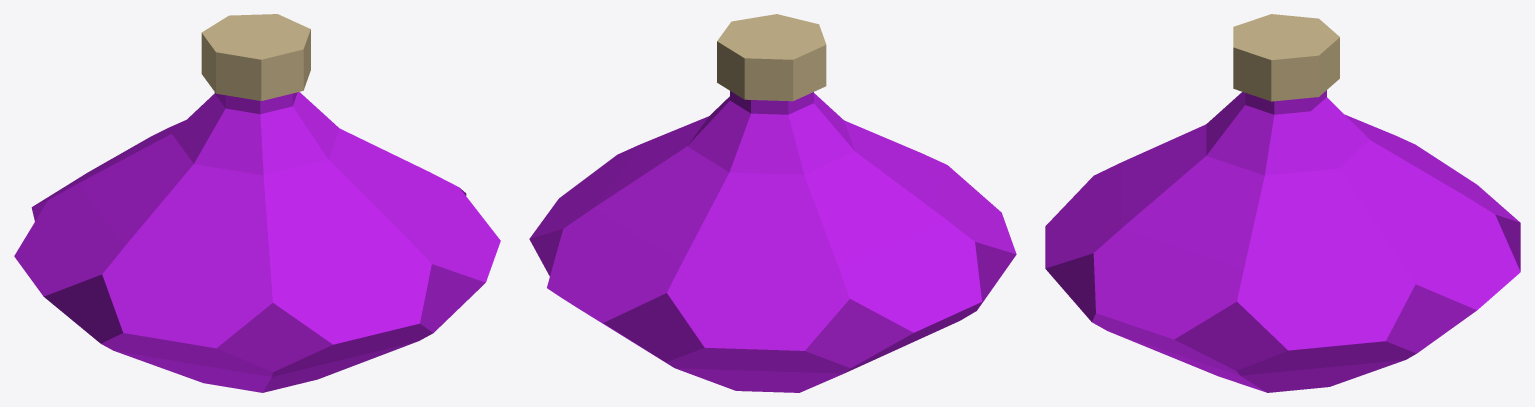
File: ShortPotion_18.fbx
3 renders of one model, left to right at view 1: azimuth 30°, elevation 25°; view 2: azimuth 150°, elevation 25°; view 3: azimuth 270°, elevation 25°, orthographic.
Visible parts, largest first — view 1: ShortPotion_18; view 2: ShortPotion_18; view 3: ShortPotion_18.
Part boxes in pixels (x1,y1,x2,y2): ShortPotion_18: (14, 14, 500, 392); ShortPotion_18: (529, 14, 1016, 392); ShortPotion_18: (1045, 14, 1520, 392).
Size of the model in its own units: 17.35 by 12.78 by 16.91.
